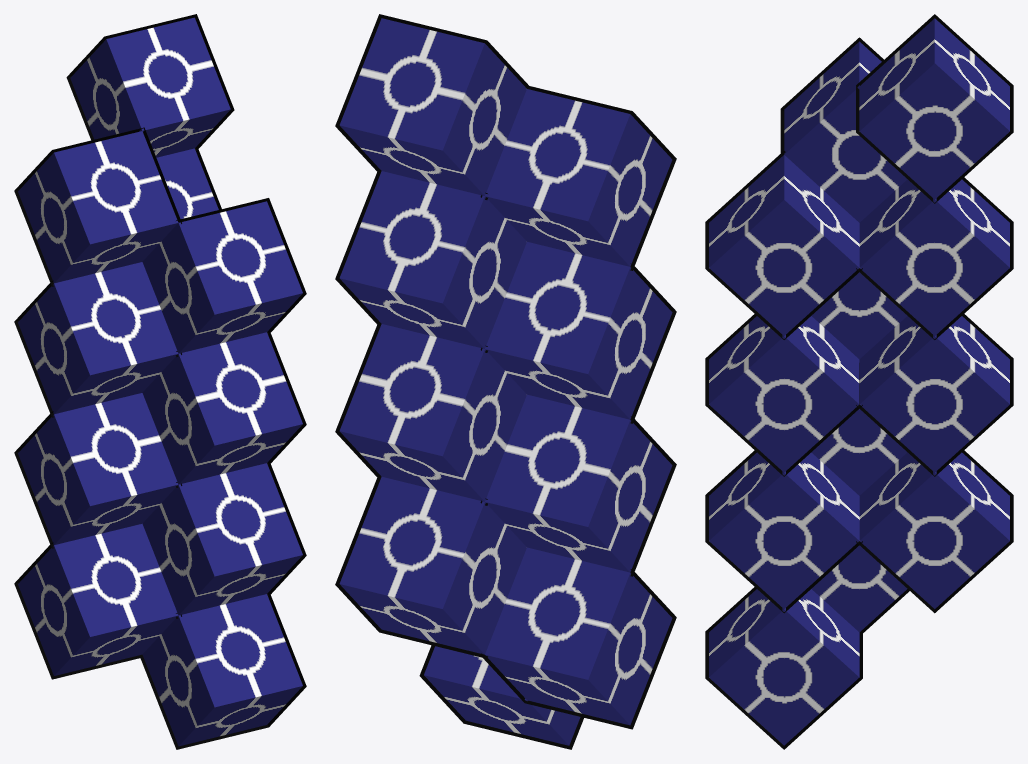
File: StageObj2.FBX
The picture shows the model from 3 angles, left to right: view 1: azimuth 30°, elevation 25°; view 2: azimuth 150°, elevation 25°; view 3: azimuth 270°, elevation 25°; orthographic projection. The views are drawn at different scales.
Visible parts, largest first — view 1: Box001, outline; view 2: Box001, outline; view 3: Box001, outline.
Part boxes in pixels (left/top/right/bottom): Box001: left=18, top=17, right=302, bottom=746; outline: left=14, top=14, right=306, bottom=749; Box001: left=339, top=18, right=672, bottom=745; outline: left=335, top=14, right=676, bottom=749; Box001: left=709, top=18, right=1009, bottom=745; outline: left=705, top=14, right=1013, bottom=749.
Bounding box in the file's own units: 55.25 × 193 × 78.13.
Materials: 2 (1 with a texture image).
